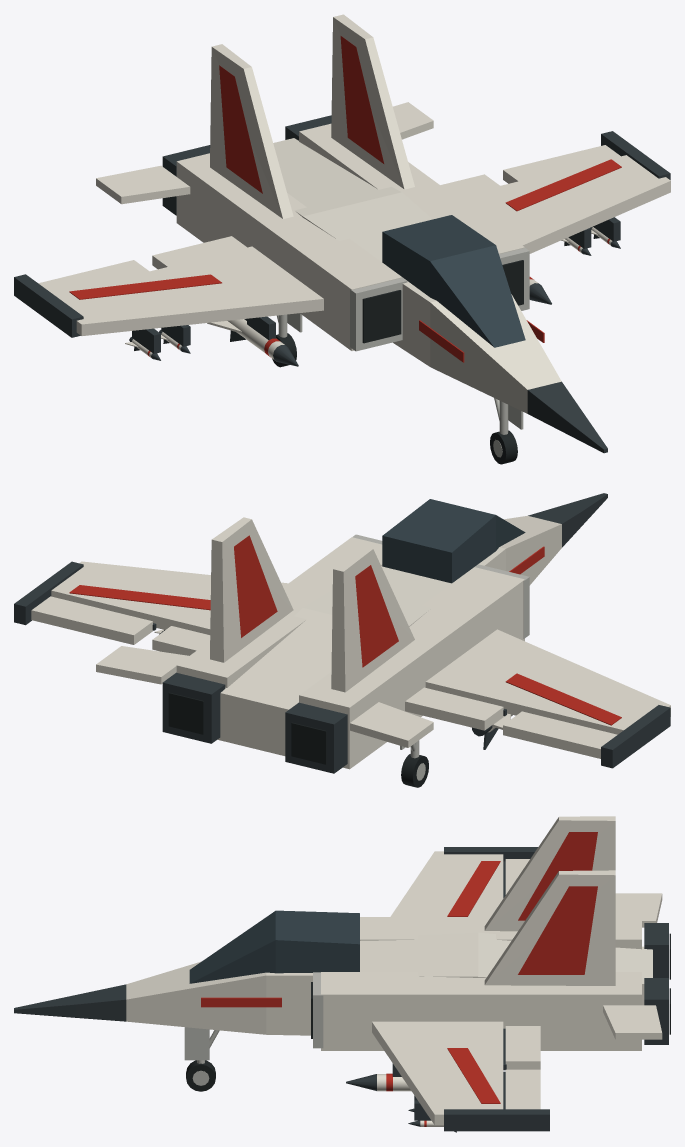
3 views of the same model, one above another, from view 1: azimuth 30°, elevation 25°; view 2: azimuth 150°, elevation 25°; view 3: azimuth 270°, elevation 25° (orthographic). The views are drawn at different scales.
Parts seen in each view (by area): view 1: jet-a-fleet-armor, jet-a-fleet-glass, jet-a-fleet-machine, jet-a-fleet-red, jet-a-fleet-rubber, elevator-left-fleet-armor, jet-a-fleet-edge, aileron-right-painted, aileron-left-painted, flap-left-painted, store-left-large-painted, elevator-right-fleet-armor (+2 smaller); view 2: jet-a-fleet-armor, jet-a-fleet-machine, jet-a-fleet-red, jet-a-fleet-glass, aileron-right-painted, aileron-left-painted, flap-left-painted, jet-a-fleet-rubber, elevator-left-fleet-armor, elevator-right-fleet-armor, flap-right-painted, jet-a-fleet-edge (+1 smaller); view 3: jet-a-fleet-armor, jet-a-fleet-red, jet-a-fleet-glass, jet-a-fleet-machine, elevator-right-fleet-armor, flap-right-painted, aileron-right-painted, elevator-left-fleet-armor, landing-gear-nose-fleet-edge, store-right-large-painted, jet-a-fleet-edge, gear-wheel-nose-0-0-painted (+1 smaller).
Part boxes in pixels (x1,y1,x2,y2): jet-a-fleet-armor: (54,14,670,413); jet-a-fleet-glass: (382,215,525,347); jet-a-fleet-machine: (14,115,670,453); jet-a-fleet-red: (69,36,621,362); jet-a-fleet-rubber: (362,260,523,343); elevator-left-fleet-armor: (96,165,190,204); jet-a-fleet-edge: (350,248,529,351); aileron-right-painted: (503,145,620,183); aileron-left-painted: (38,260,149,294); flap-left-painted: (152,236,246,269); store-left-large-painted: (207,318,298,366); elevator-right-fleet-armor: (393,102,433,139); jet-a-fleet-armor: (51,515,670,769); jet-a-fleet-machine: (14,493,670,773); jet-a-fleet-red: (69,535,621,725); jet-a-fleet-glass: (382,499,525,583); aileron-right-painted: (31,596,156,644); aileron-left-painted: (503,711,617,758); flap-left-painted: (405,687,506,730); jet-a-fleet-rubber: (168,692,326,764); elevator-left-fleet-armor: (350,702,433,747); elevator-right-fleet-armor: (96,646,188,684); flap-right-painted: (152,626,210,655); jet-a-fleet-edge: (352,534,529,638); jet-a-fleet-armor: (126,816,652,1125); jet-a-fleet-red: (201,832,597,1103); jet-a-fleet-glass: (189,910,359,983); jet-a-fleet-machine: (14,847,668,1131); elevator-right-fleet-armor: (603,1005,662,1039); flap-right-painted: (503,1026,540,1070); aileron-right-painted: (503,1069,540,1109); elevator-left-fleet-armor: (615,893,662,927); landing-gear-nose-fleet-edge: (184,1027,219,1063); store-right-large-painted: (346,1073,411,1091); jet-a-fleet-edge: (313,972,323,1048); gear-wheel-nose-0-0-painted: (186,1060,215,1091).
Bounding box in the file's own units: 59.87 × 25.4 × 62.11.
